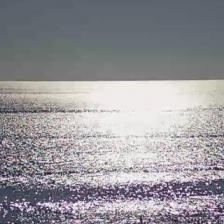surfer: (138, 216, 146, 223)
